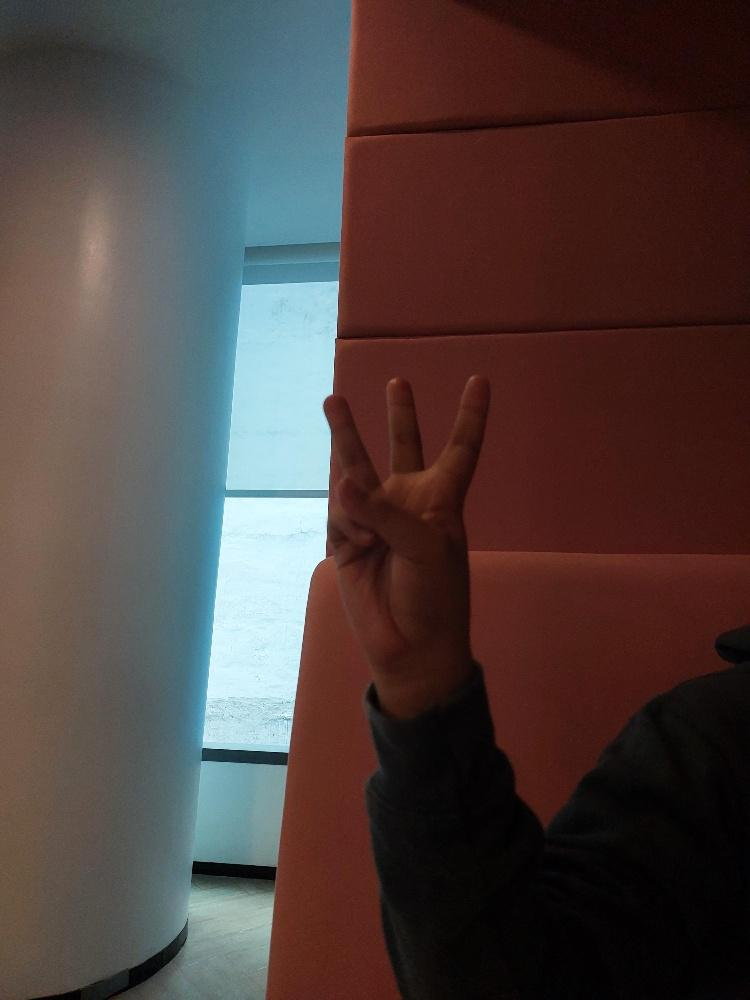w: (315, 360, 499, 679)
